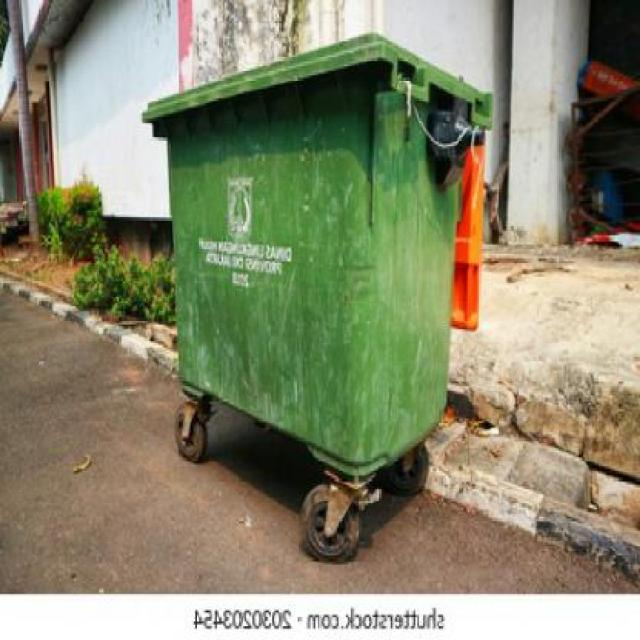garbage container: (130, 27, 505, 558)
